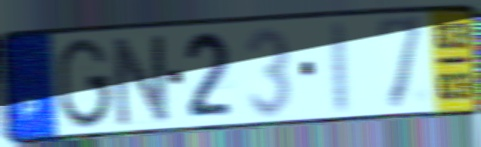2: (182, 26, 241, 126)
3: (244, 21, 296, 122)
7: (374, 13, 426, 113)
G: (55, 35, 113, 132)
I: (330, 18, 353, 117)
N: (112, 30, 174, 129)
